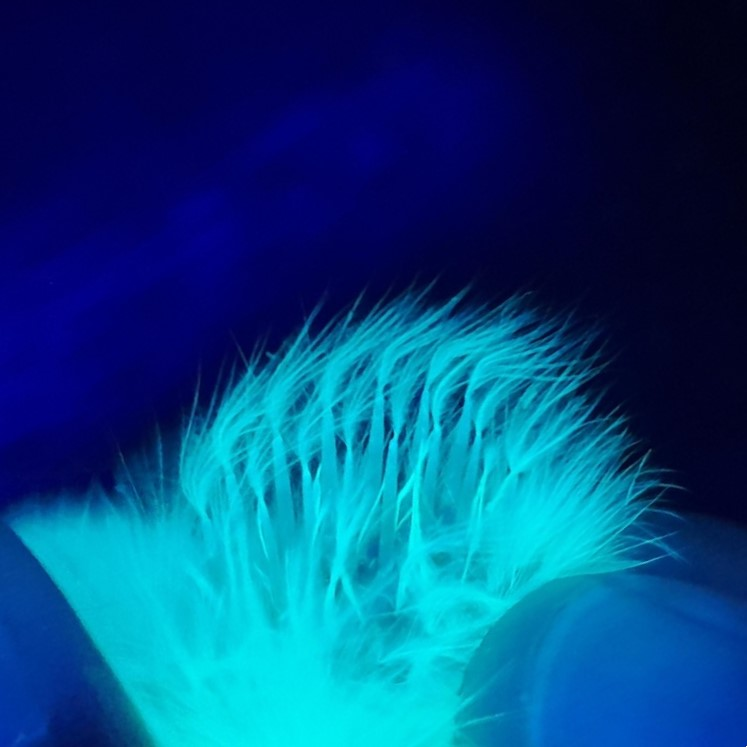female: (201, 339, 555, 659)
